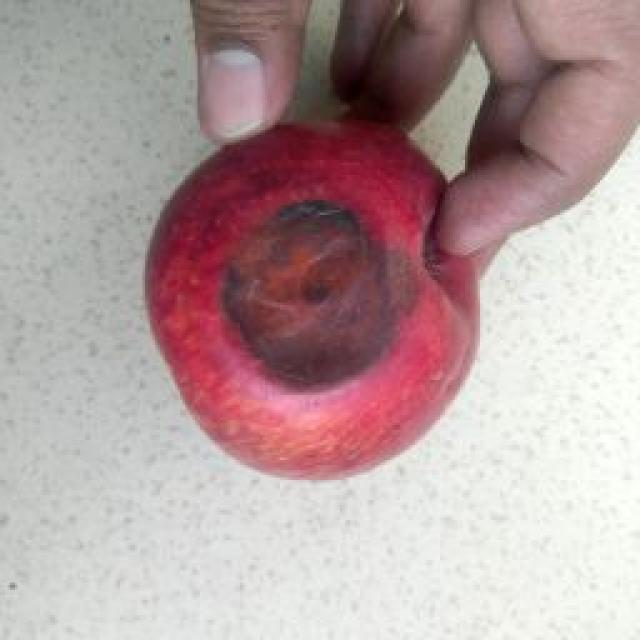Bad_Apple: (146, 121, 479, 478)
